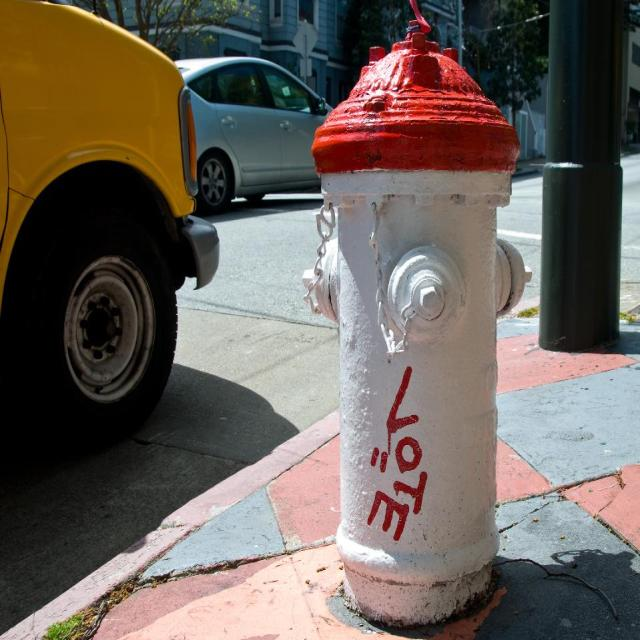fire_hydrant: (300, 20, 532, 629)
